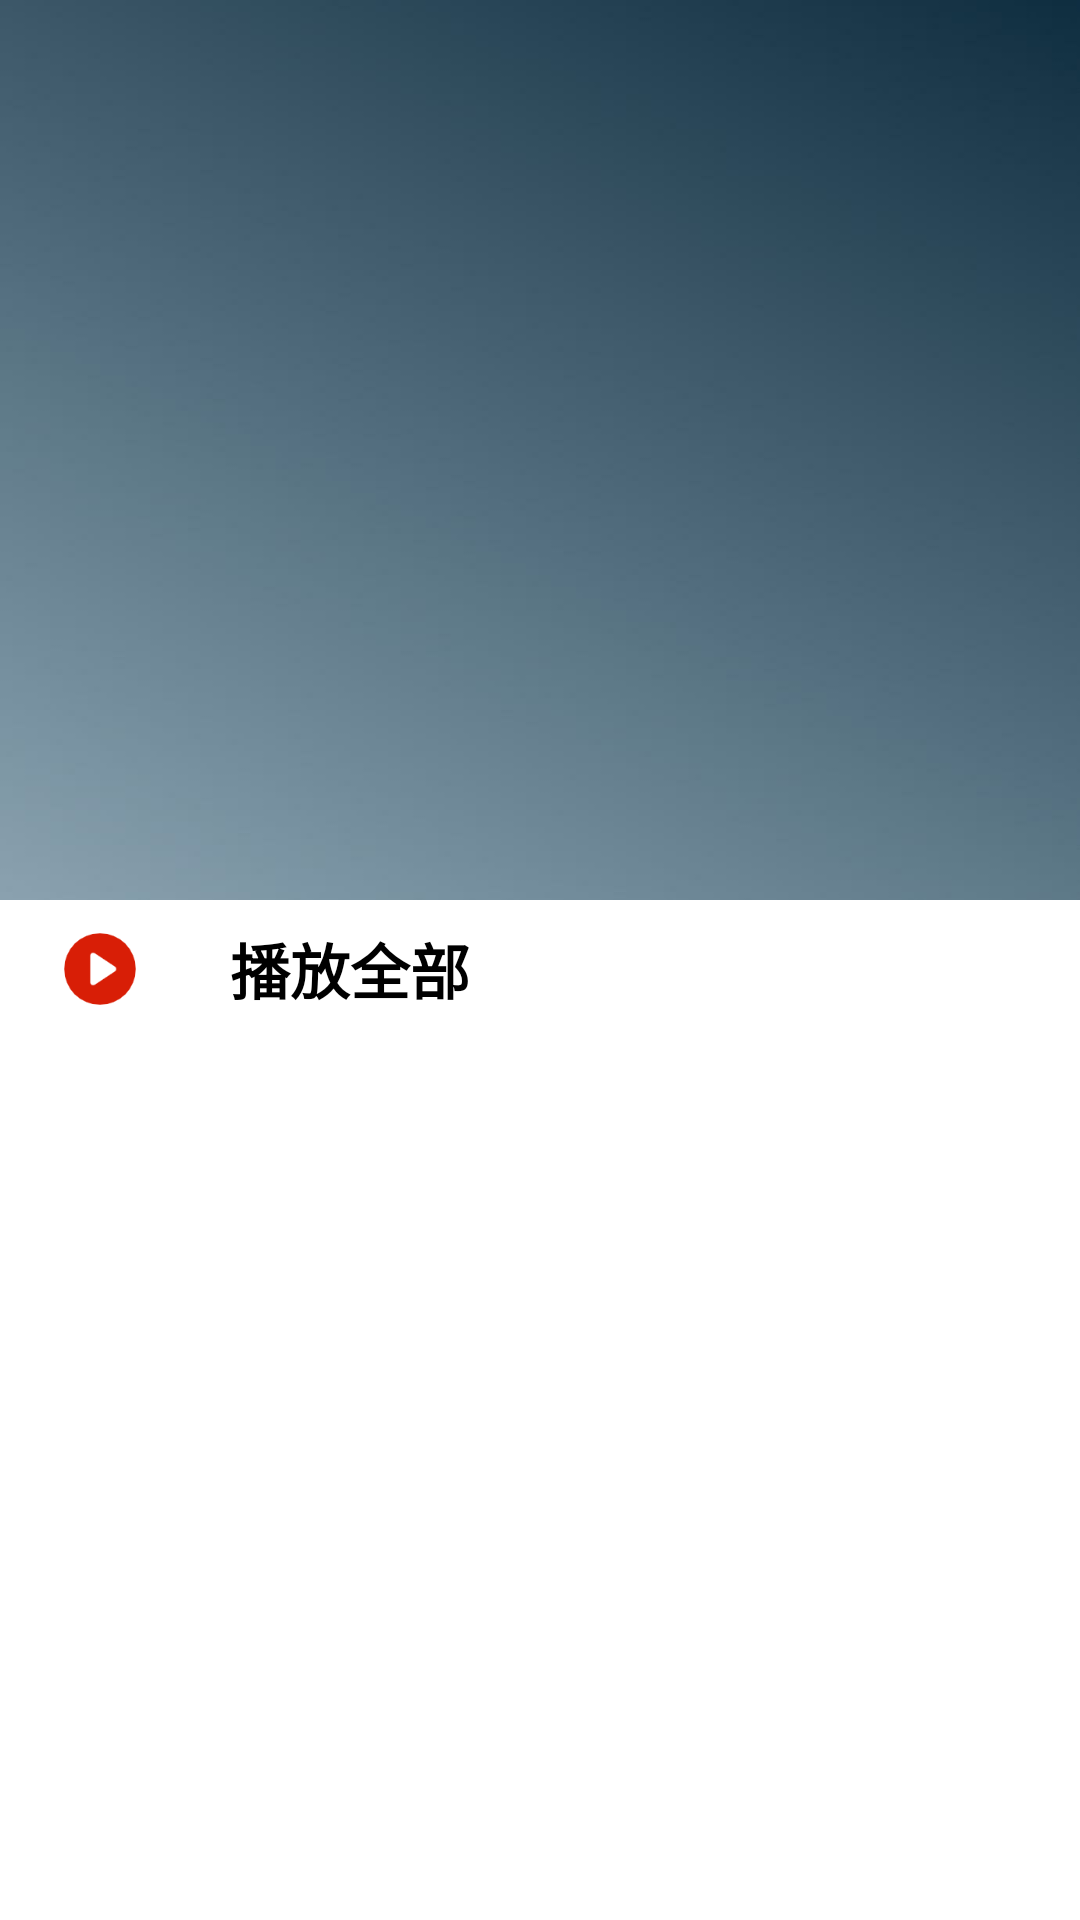

Locate icon controls on the screen. Image size 1080*1920, boxes as (x1, y1, x2, y2).
play: (64, 933, 136, 1005)
